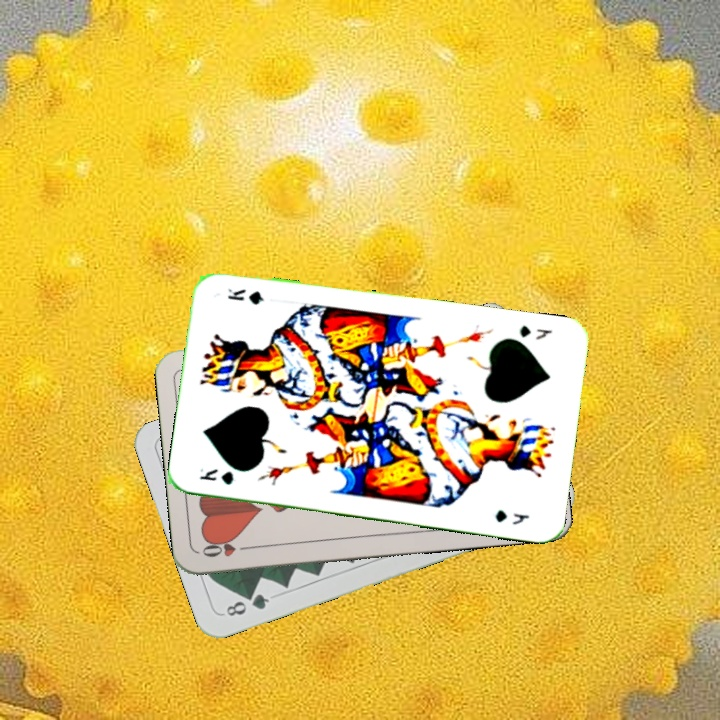G8: (221, 589, 272, 619)
GK: (196, 464, 237, 487), (515, 321, 555, 342)
HO: (198, 536, 256, 560)
